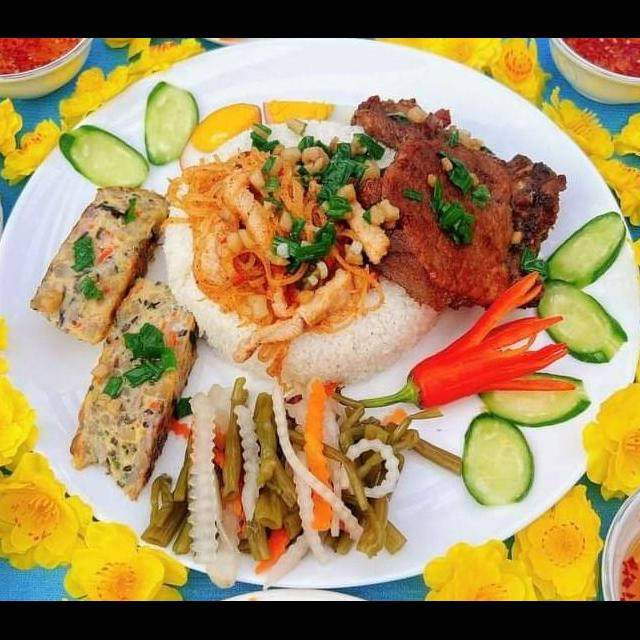cha: (64, 274, 204, 503), (25, 180, 172, 348)
com: (155, 118, 459, 396)
com suon bi cha trung: (15, 82, 633, 569)
dua chua: (136, 374, 467, 596)
suon: (347, 93, 570, 320)
trung: (176, 104, 263, 176), (258, 98, 363, 136)
